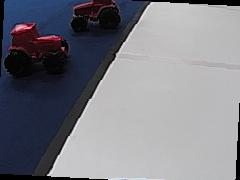Tracktor: (4, 18, 72, 77), (69, 0, 121, 32)
